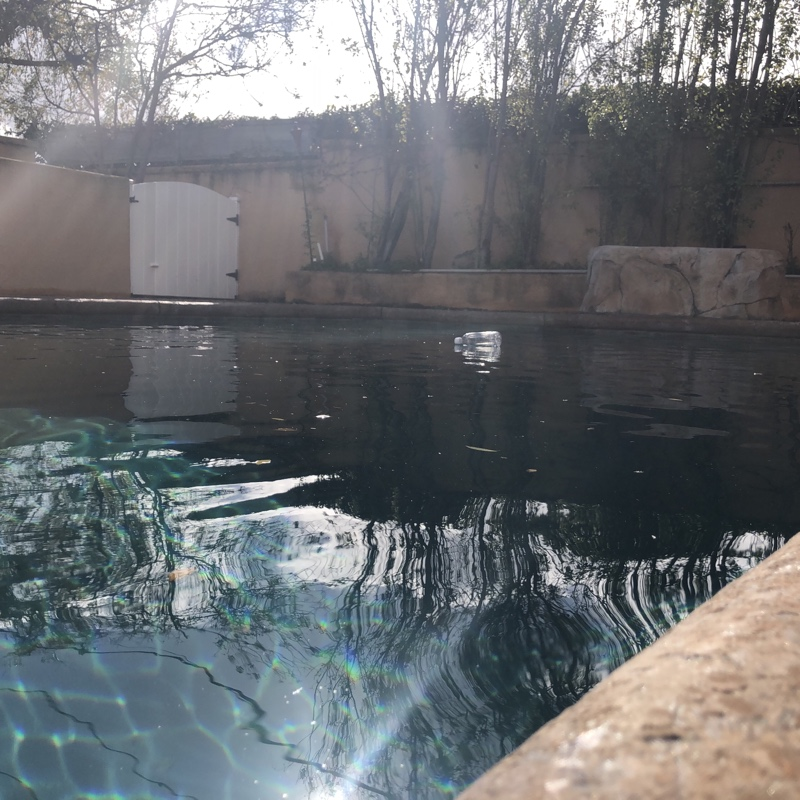Plastic Bottle: (452, 330, 500, 348)
